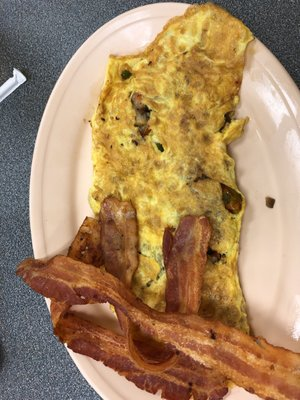curry: (4, 1, 299, 375)
